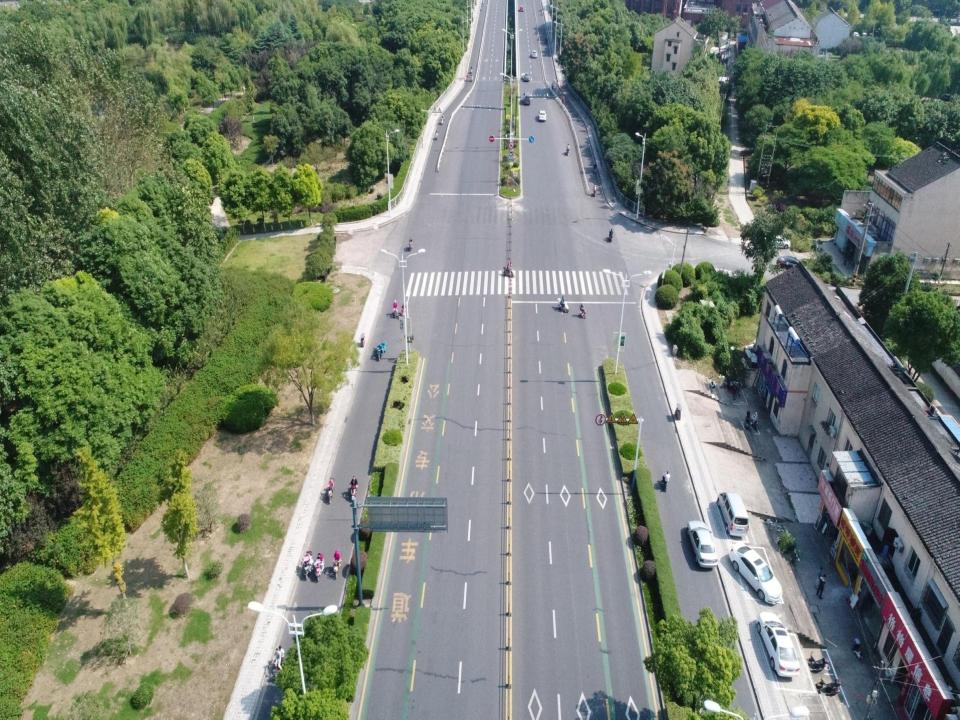car: (730, 539, 782, 606), (757, 610, 800, 679), (685, 519, 718, 566), (764, 231, 791, 249), (775, 255, 804, 270), (539, 109, 546, 121), (522, 72, 530, 82), (531, 50, 538, 58), (520, 5, 524, 12)
van: (716, 488, 750, 540), (523, 91, 531, 105)
